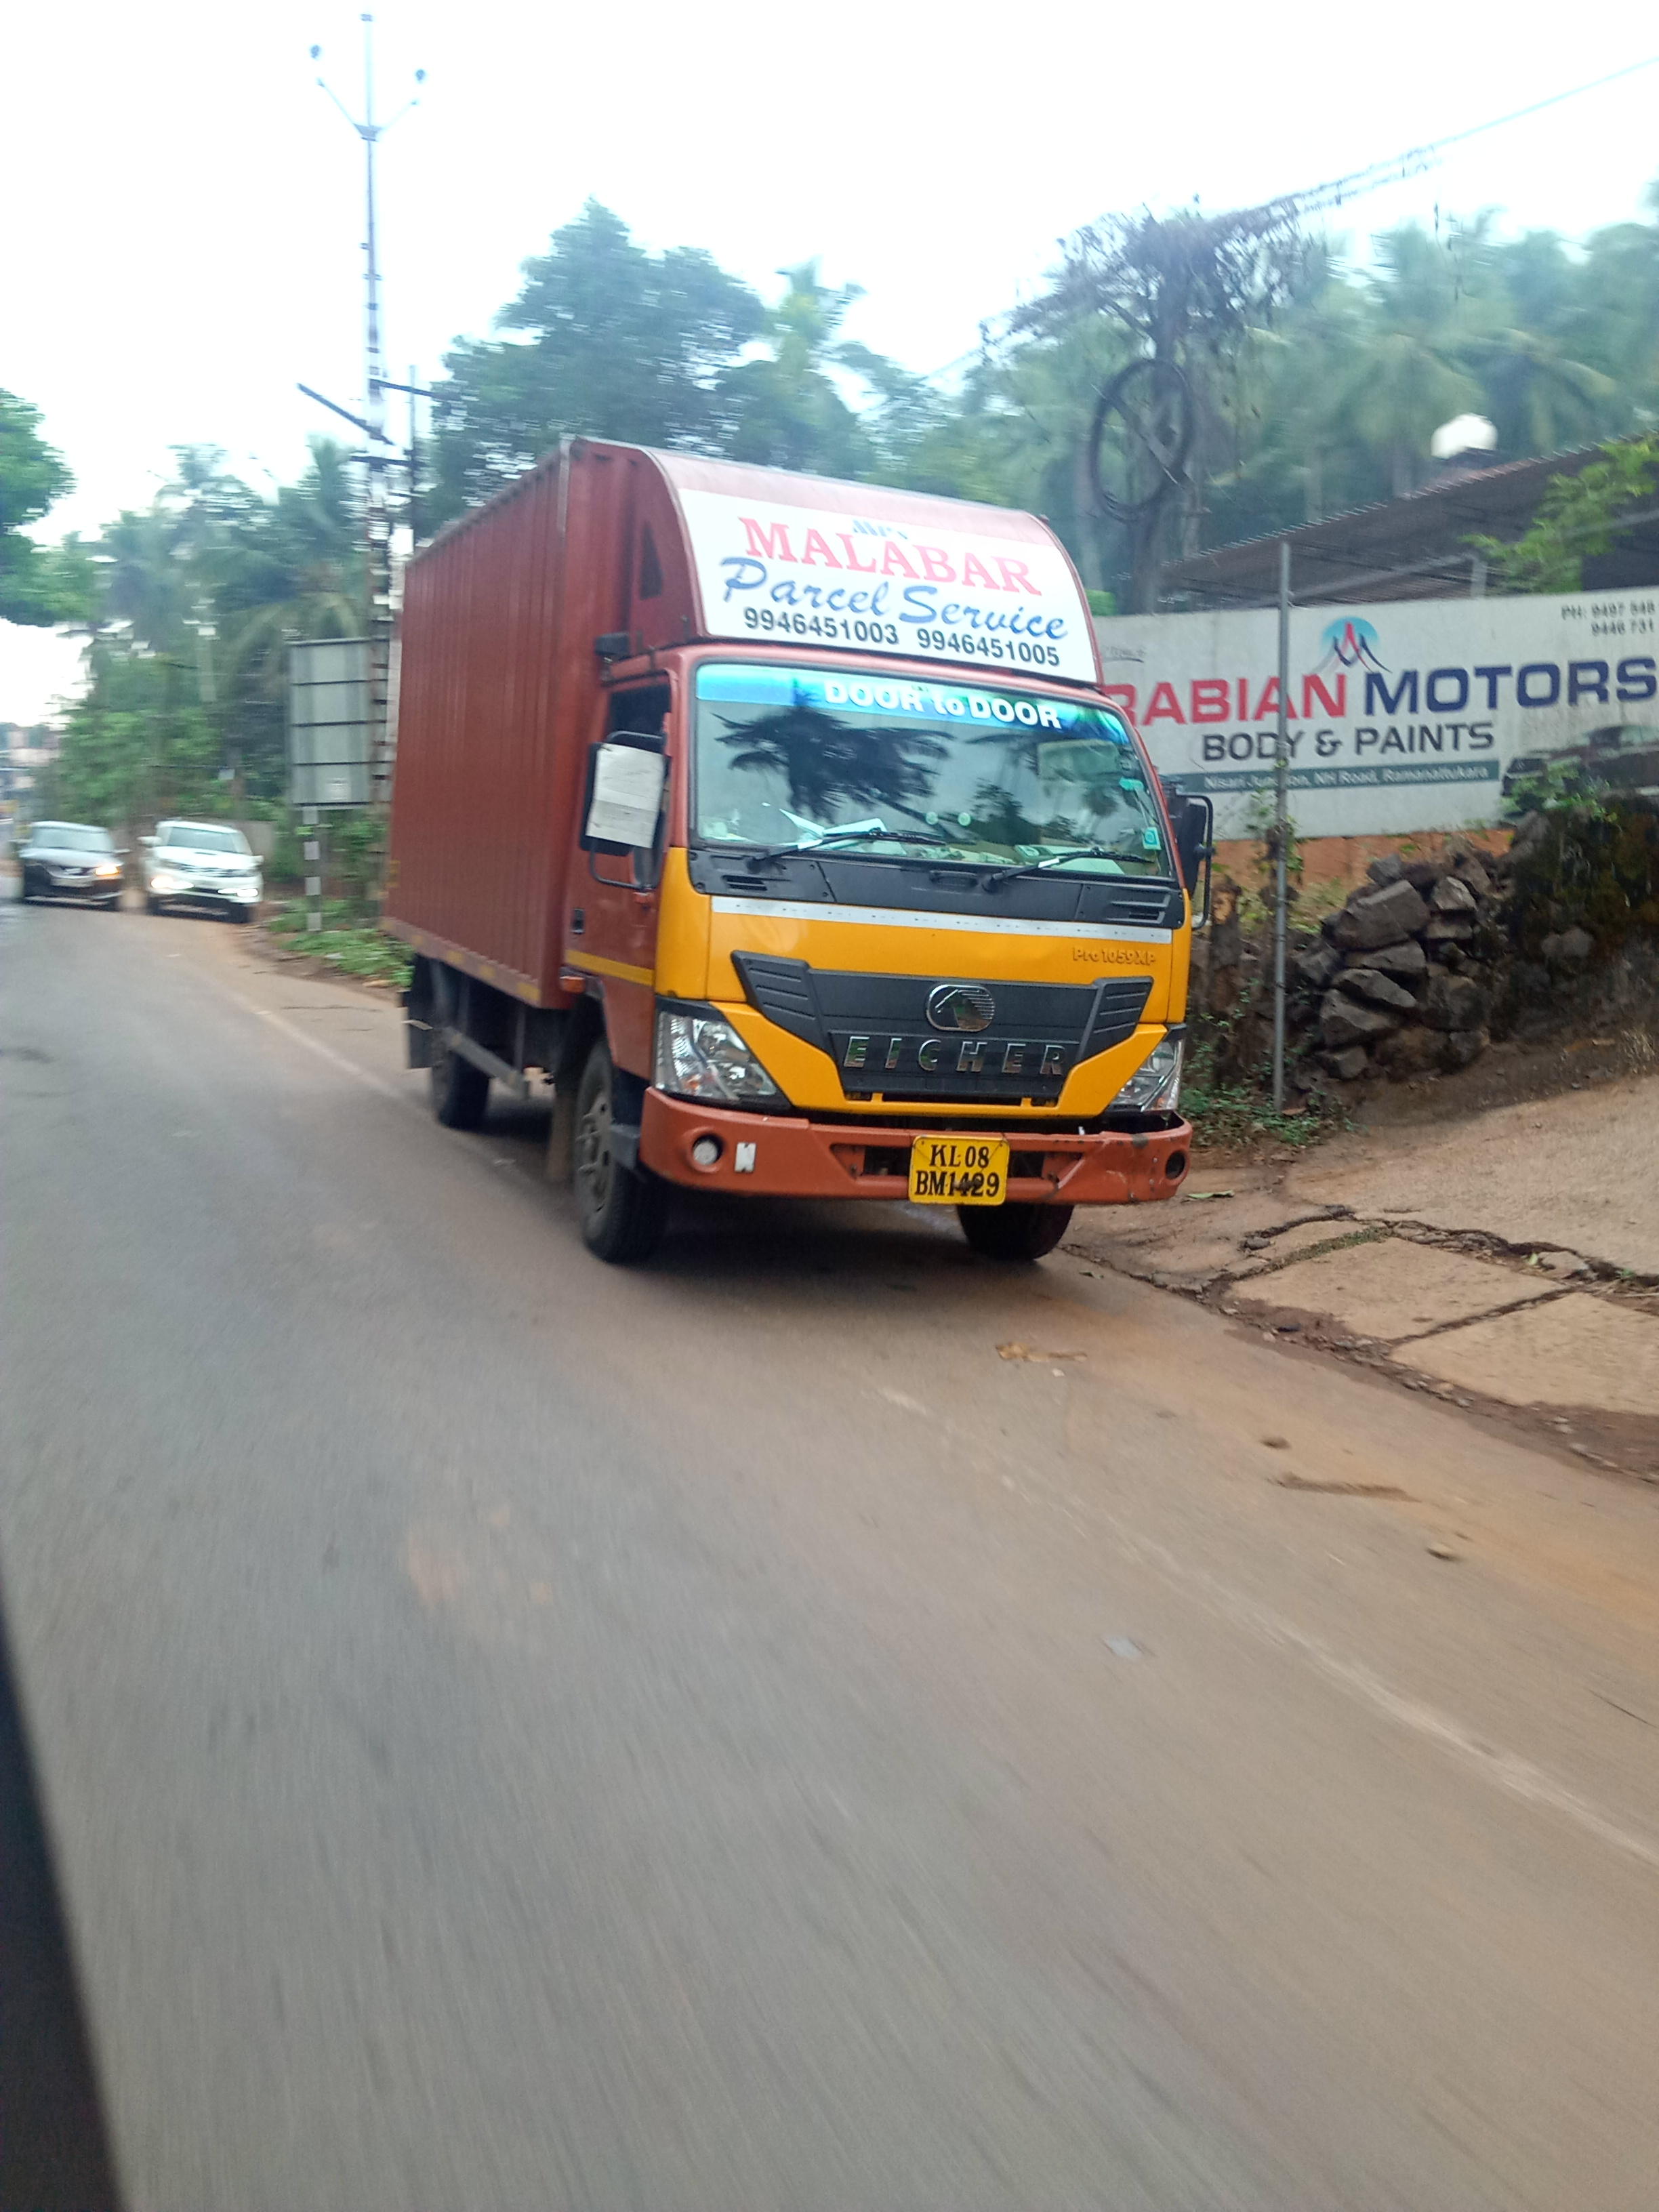truck: (369, 427, 1222, 1271)
